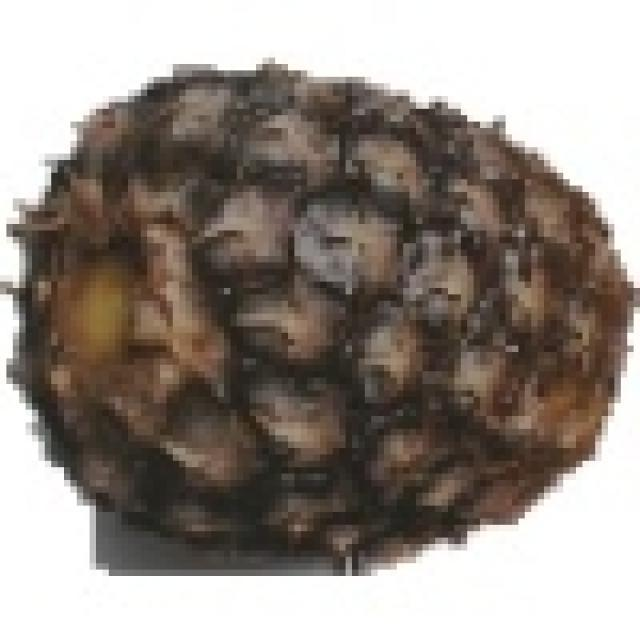pineapple: (26, 58, 634, 557)
